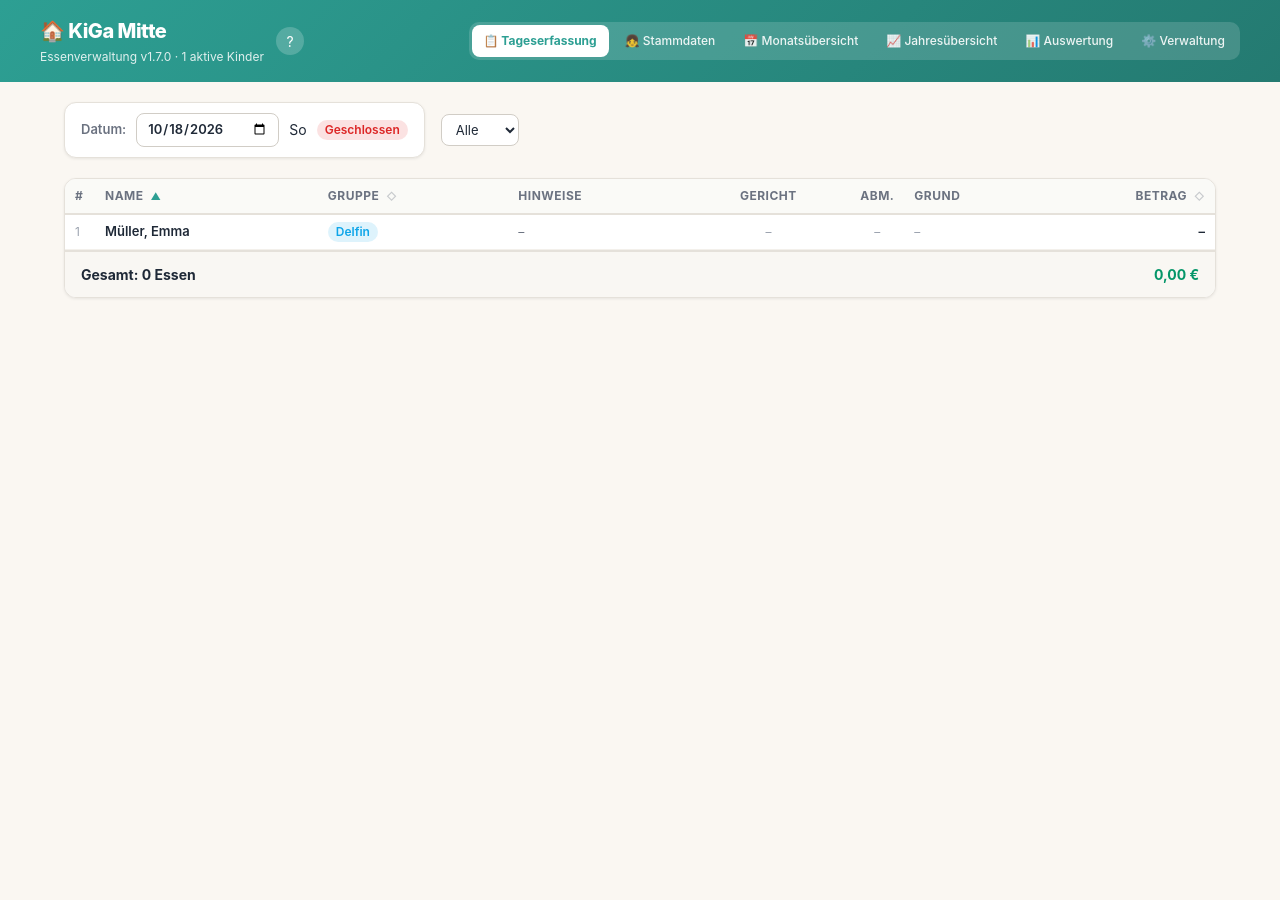
Scenario: Administration › "Alle löschen" zeigt ConfirmDialog mit Stammdaten-Text
expect the text "Müller, Emma" is shown: met, box x1=95 y1=214 x2=318 y2=249
Click the button "⚙️ Verwaltung": (1183,41) x1=1129 y1=25 x2=1237 y2=57
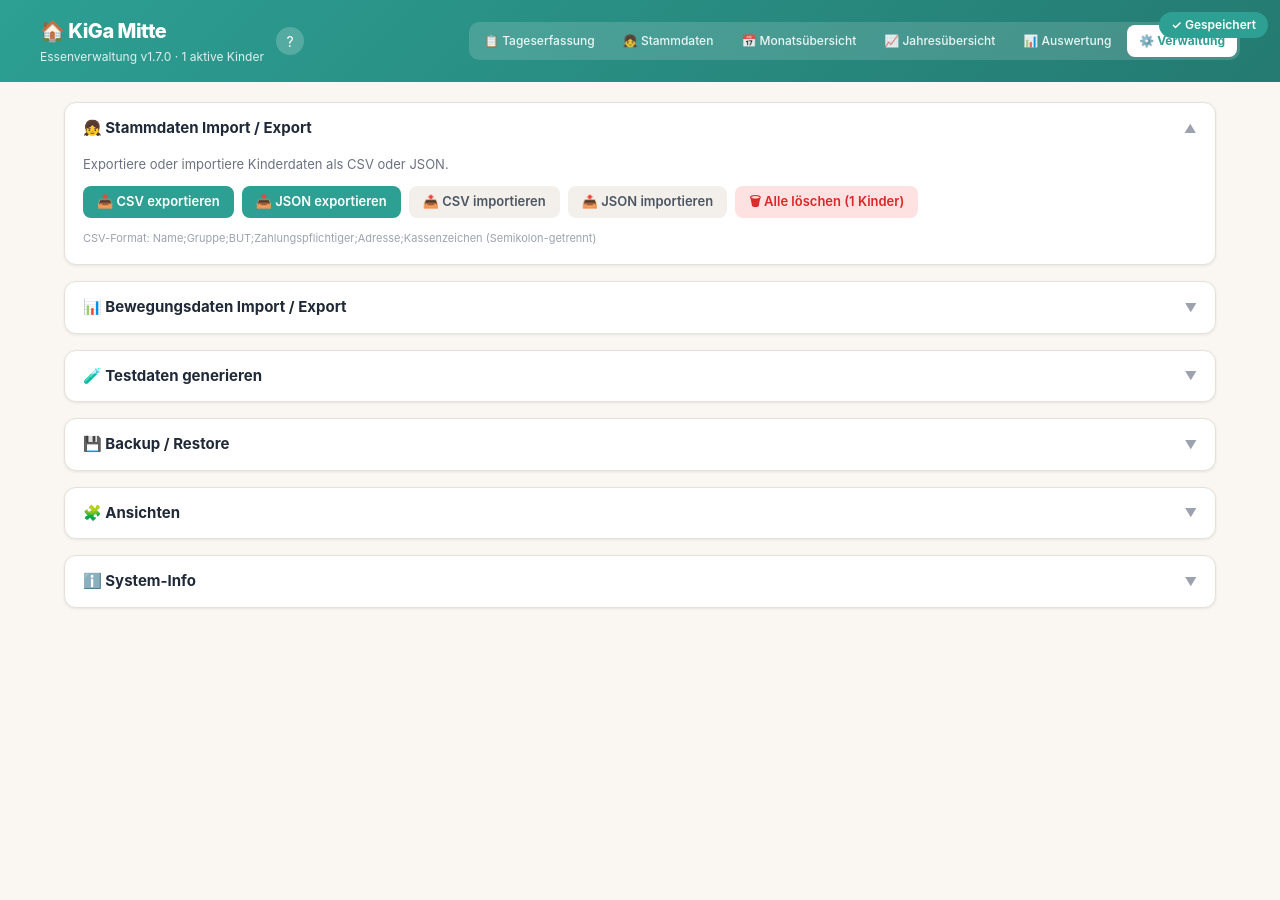
expect the text "👧 Stammdaten Import / Export" is shown: met, box x1=83 y1=117 x2=312 y2=140
Click the button "🗑 Alle löschen (1 Kinder)": (827,202) x1=735 y1=186 x2=918 y2=218
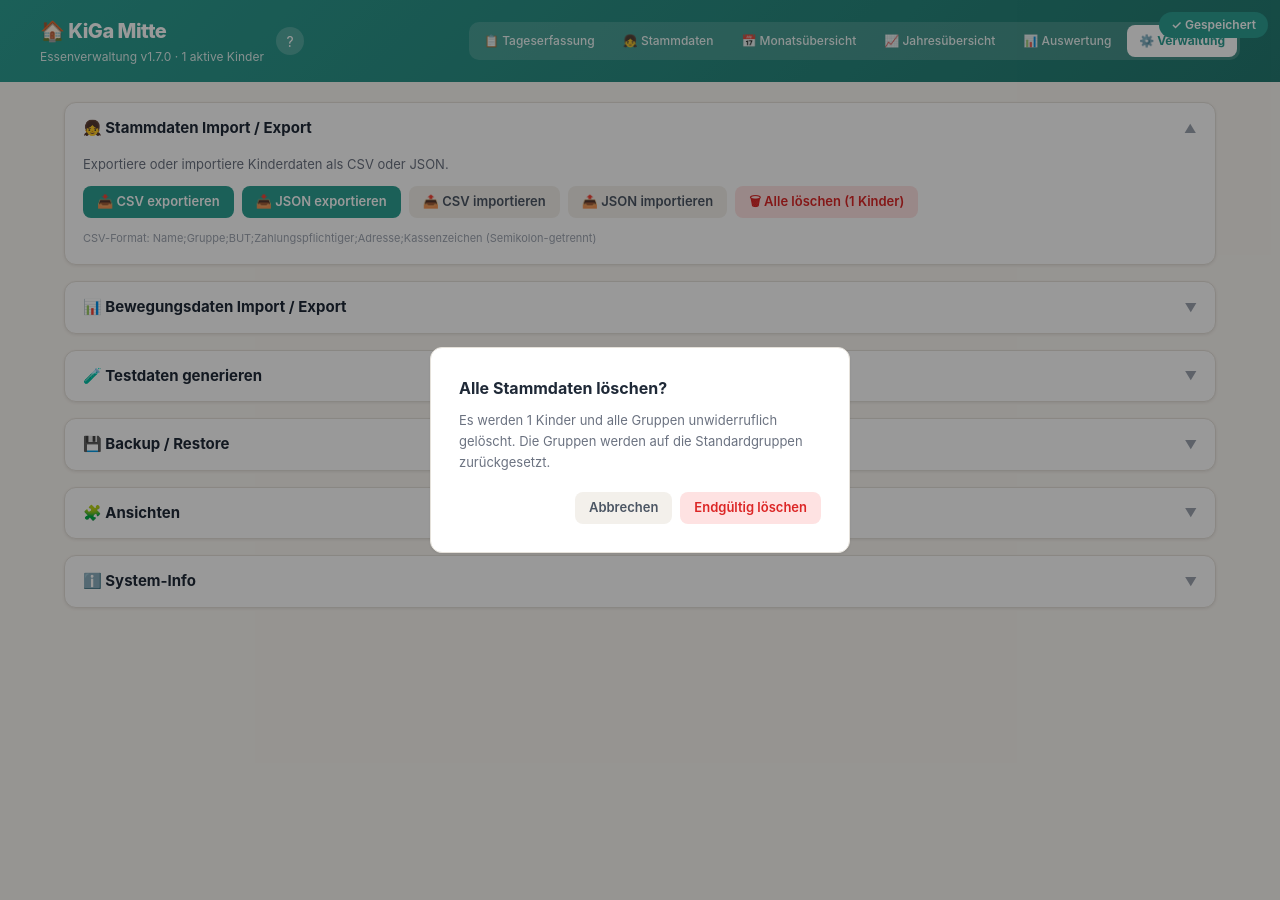
expect the text "Alle Stammdaten löschen?" is shown: met, box x1=459 y1=378 x2=667 y2=398
Click the button "Abbrechen": (624,508) x1=575 y1=492 x2=672 y2=524
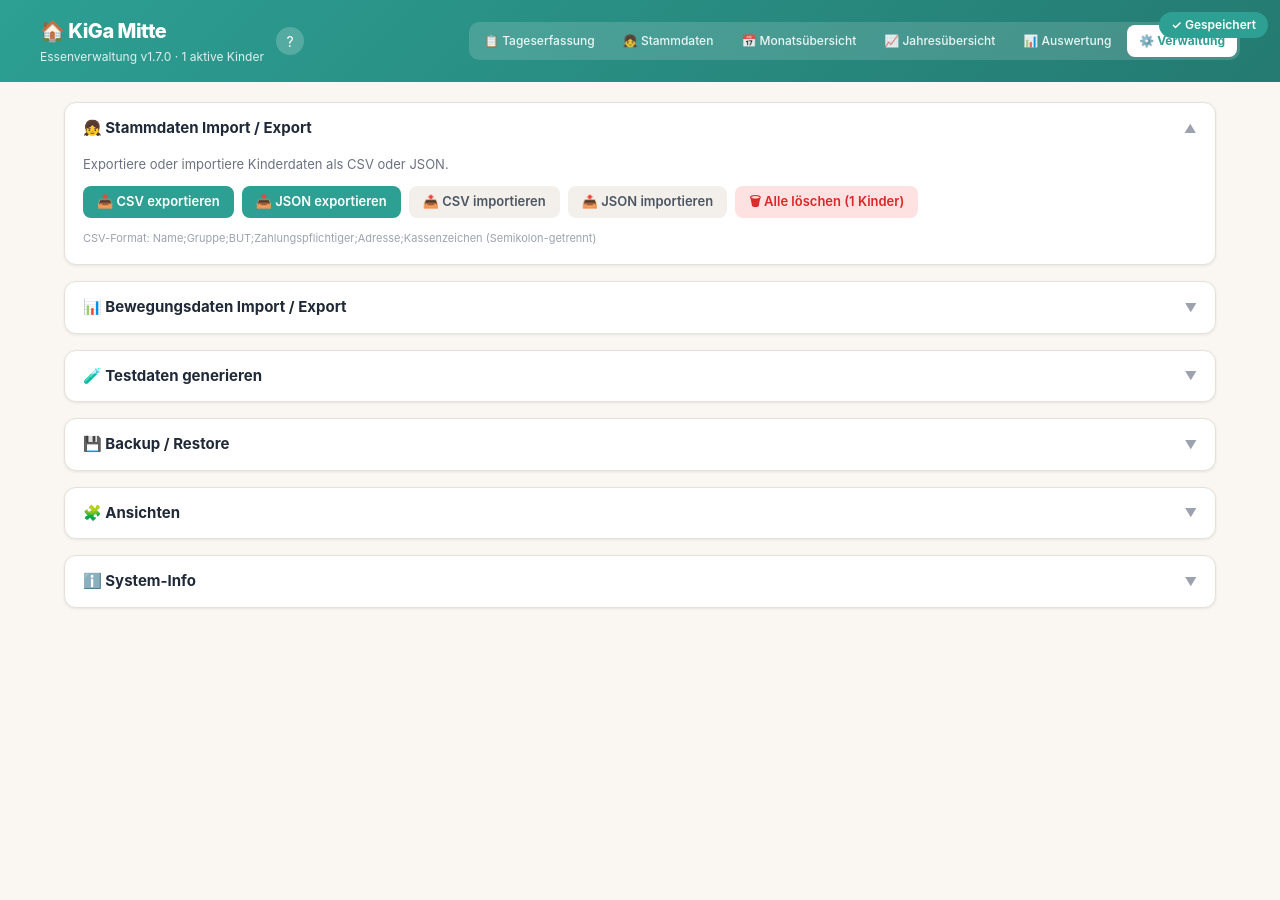
expect the text "Alle Stammdaten löschen?" is gone: met
